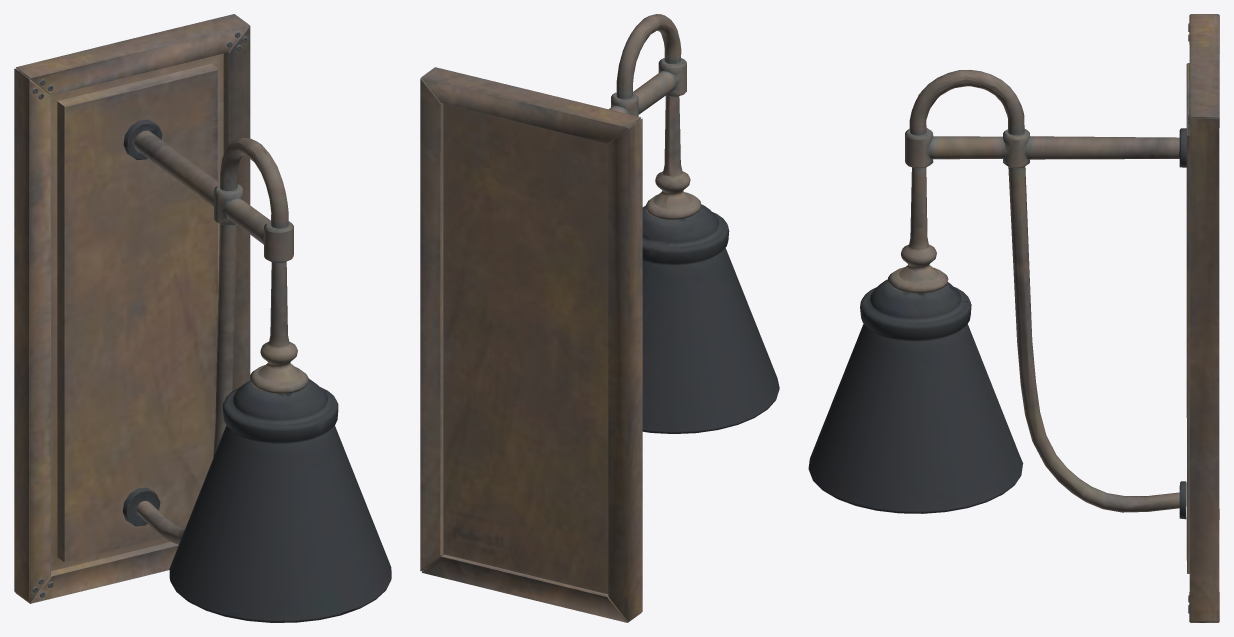
File: industrial_wall_sconce.glb
The picture shows the model from 3 angles, left to right: view 1: azimuth 30°, elevation 25°; view 2: azimuth 150°, elevation 25°; view 3: azimuth 270°, elevation 25°; orthographic projection. The views are drawn at different scales.
Visible parts, largest first — view 1: industrial_wall_sconce; view 2: industrial_wall_sconce; view 3: industrial_wall_sconce.
Part boxes in pixels (x1,y1,x2,y2): industrial_wall_sconce: (14, 14, 391, 622); industrial_wall_sconce: (420, 14, 779, 622); industrial_wall_sconce: (808, 14, 1219, 622).
Size of the model in its own units: 0.1502 by 0.3418 by 0.2517.
2 materials, 2 textured.
